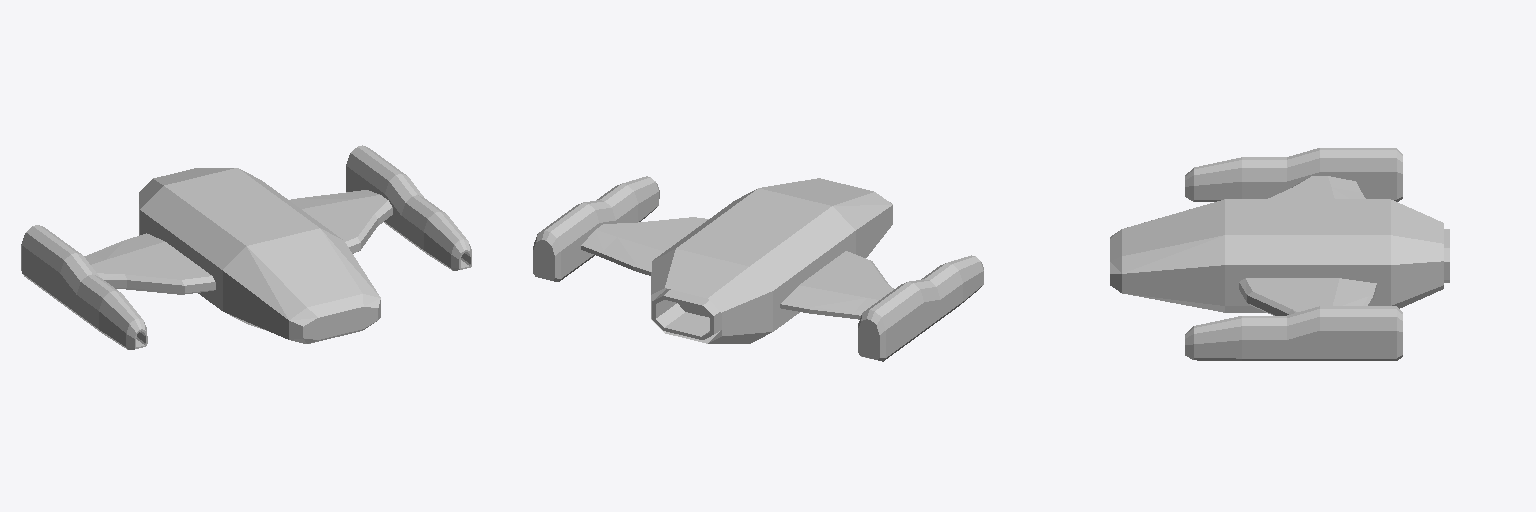
The picture shows the model from 3 angles: view 1: azimuth 30°, elevation 25°; view 2: azimuth 150°, elevation 25°; view 3: azimuth 270°, elevation 25°; orthographic projection.
Parts seen in each view (by area): view 1: DroidFighter:Mesh polySurface4, DroidFighter:Mesh polySurface8, DroidFighter:Mesh polySurface3, DroidFighter:Mesh polySurface9, DroidFighter:Mesh polySurface5; view 2: DroidFighter:Mesh polySurface4, DroidFighter:Mesh polySurface8, DroidFighter:Mesh polySurface3, DroidFighter:Mesh polySurface9, DroidFighter:Mesh polySurface5, polySurface7 DroidFighter:Mesh; view 3: DroidFighter:Mesh polySurface4, DroidFighter:Mesh polySurface3, DroidFighter:Mesh polySurface8, DroidFighter:Mesh polySurface5, DroidFighter:Mesh polySurface9.
Part boxes in pixels (x1,y1,x2,y2): DroidFighter:Mesh polySurface4: (139,168,380,343); DroidFighter:Mesh polySurface8: (21,225,147,349); DroidFighter:Mesh polySurface3: (346,145,471,270); DroidFighter:Mesh polySurface9: (84,233,215,294); DroidFighter:Mesh polySurface5: (289,190,392,253); DroidFighter:Mesh polySurface4: (651,178,892,343); DroidFighter:Mesh polySurface8: (858,255,983,361); DroidFighter:Mesh polySurface3: (533,176,659,281); DroidFighter:Mesh polySurface9: (780,251,893,319); DroidFighter:Mesh polySurface5: (581,217,708,275); polySurface7 DroidFighter:Mesh: (651,288,721,343); DroidFighter:Mesh polySurface4: (1110,199,1443,312); DroidFighter:Mesh polySurface3: (1185,306,1402,360); DroidFighter:Mesh polySurface8: (1185,148,1402,201); DroidFighter:Mesh polySurface5: (1239,278,1376,315); DroidFighter:Mesh polySurface9: (1268,176,1365,198).
Bounding box in the file's own units: 5.13 × 1.08 × 4.29.